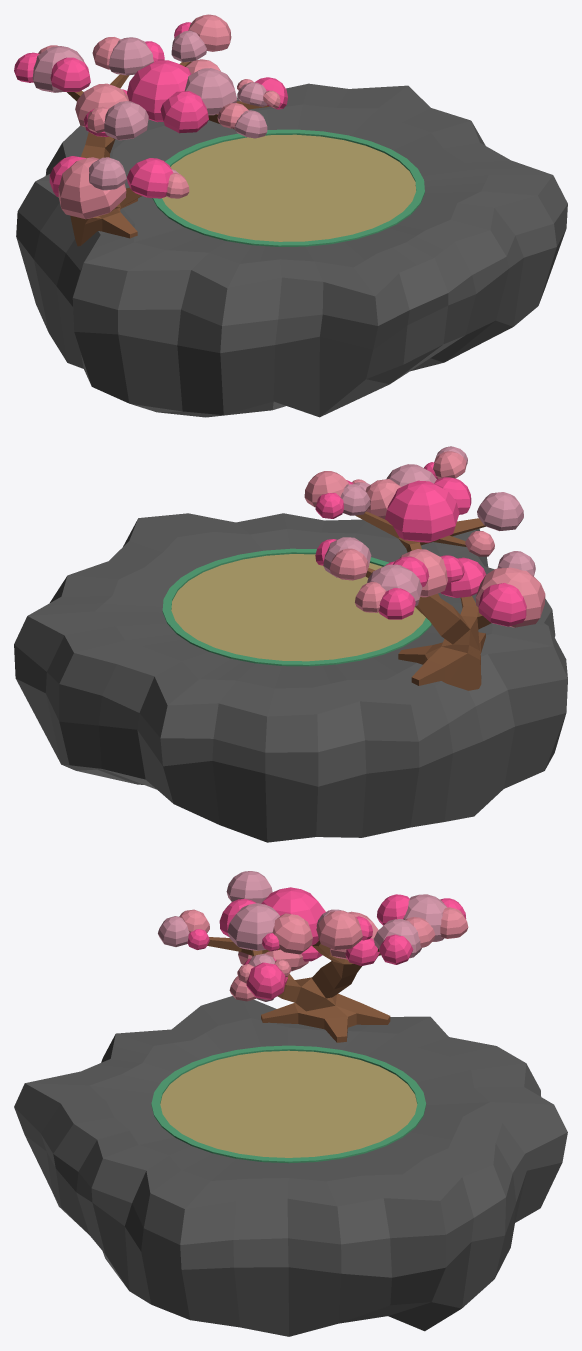
File: hometown2.fbx
3 views of the same model, one above another, from view 1: azimuth 30°, elevation 25°; view 2: azimuth 150°, elevation 25°; view 3: azimuth 270°, elevation 25° (orthographic).
Parts seen in each view (by area): view 1: GroundRock, GroundInnerRing, GroundRing, TreeTrunk, Blossom.028, Blossom.007, Blossom.003, Blossom.001, Blossom.029, Blossom.016, Blossom.019, Blossom.024 (+11 smaller); view 2: GroundRock, GroundInnerRing, TreeTrunk, Blossom.007, GroundRing, Blossom.028, Blossom.031, Blossom.016, Blossom.022, Blossom.018, Blossom.021, Blossom.029 (+13 smaller); view 3: GroundRock, GroundInnerRing, TreeTrunk, GroundRing, Blossom.001, Blossom.007, Blossom.013, Blossom.002, Blossom.004, Blossom.016, Blossom.022, Blossom.019 (+5 smaller).
Part boxes in pixels (<box>): GroundRock: <box>16,83,567,417</box>; GroundInnerRing: <box>162,134,415,241</box>; GroundRing: <box>152,129,424,246</box>; TreeTrunk: <box>67,61,268,246</box>; Blossom.028: <box>58,157,126,219</box>; Blossom.007: <box>127,60,191,122</box>; Blossom.003: <box>160,91,208,133</box>; Blossom.001: <box>184,68,237,115</box>; Blossom.029: <box>127,158,173,198</box>; Blossom.016: <box>104,101,148,140</box>; Blossom.019: <box>109,37,153,75</box>; Blossom.024: <box>50,57,90,92</box>; GroundRock: <box>14,513,567,842</box>; GroundInnerRing: <box>171,554,425,661</box>; TreeTrunk: <box>355,511,491,690</box>; Blossom.007: <box>385,480,459,542</box>; GroundRing: <box>162,548,431,666</box>; Blossom.028: <box>475,567,545,627</box>; Blossom.031: <box>478,583,526,626</box>; Blossom.016: <box>477,492,523,531</box>; Blossom.022: <box>367,564,422,606</box>; Blossom.018: <box>399,549,447,597</box>; Blossom.021: <box>329,548,368,580</box>; Blossom.029: <box>440,557,485,597</box>; GroundRock: <box>14,996,567,1336</box>; GroundInnerRing: <box>160,1050,417,1157</box>; TreeTrunk: <box>207,937,390,1042</box>; GroundRing: <box>151,1045,426,1163</box>; Blossom.001: <box>227,903,279,950</box>; Blossom.007: <box>261,887,325,945</box>; Blossom.013: <box>316,910,362,949</box>; Blossom.002: <box>272,913,312,954</box>; Blossom.004: <box>246,962,285,1000</box>; Blossom.016: <box>226,871,272,903</box>; Blossom.022: <box>403,894,446,941</box>; Blossom.019: <box>374,919,421,958</box>.
Bounding box in the file's own units: 1565 × 1605 × 1056.
